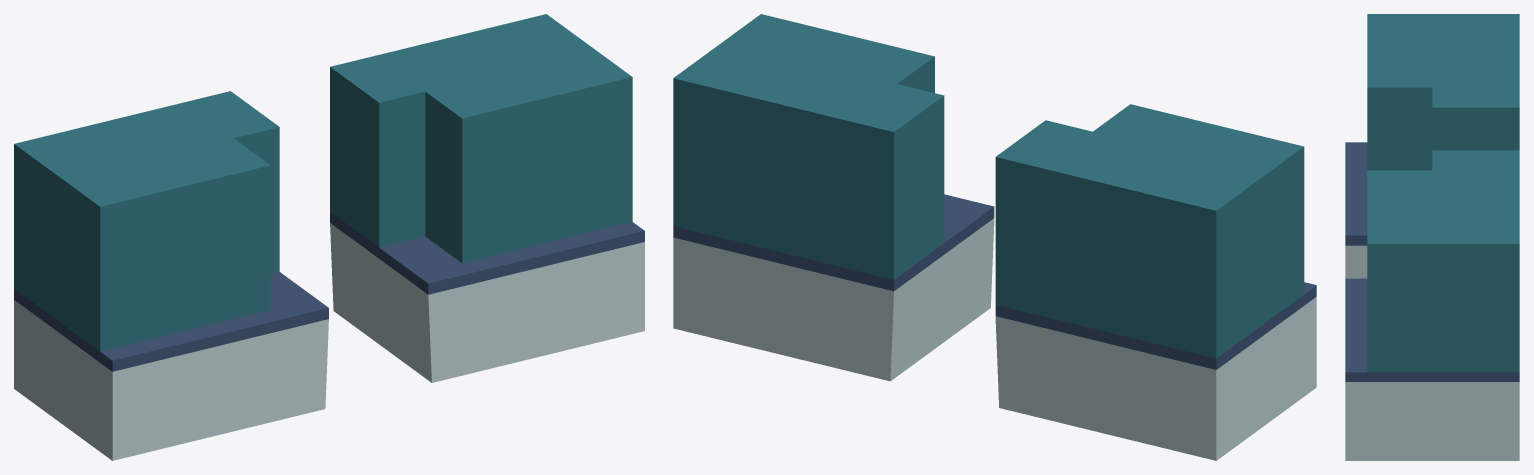
File: Lv2Obsticle5.fbx
3 views of the same model, side by side, from view 1: azimuth 30°, elevation 25°; view 2: azimuth 150°, elevation 25°; view 3: azimuth 270°, elevation 25° (orthographic). The views are drawn at different scales.
Visible parts, largest first — view 1: Lv2Obsticle5; view 2: Lv2Obsticle5; view 3: Lv2Obsticle5.
Part boxes in pixels (box(x1,y1,x2,y2)): Lv2Obsticle5: box(14, 14, 644, 460); Lv2Obsticle5: box(673, 14, 1316, 460); Lv2Obsticle5: box(1345, 14, 1519, 460).
Bounding box in the file's own units: 5000 × 2200 × 1600.
